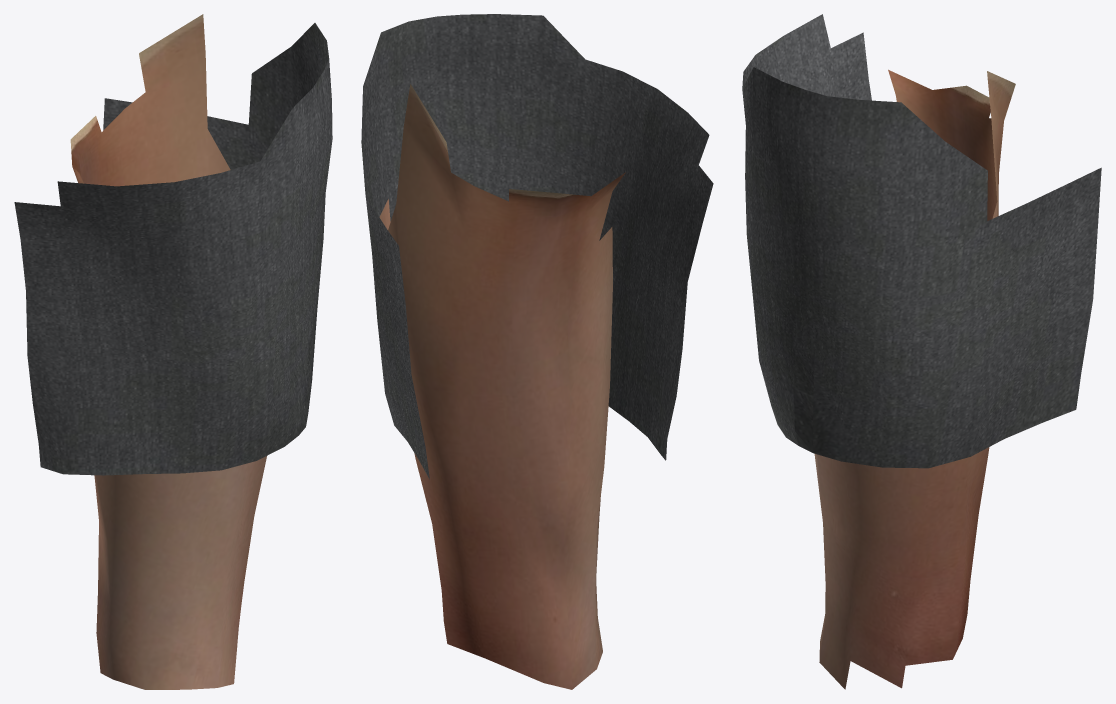
File: PiernaDer.obj
3 views of the same model, side by side, from view 1: azimuth 30°, elevation 25°; view 2: azimuth 150°, elevation 25°; view 3: azimuth 270°, elevation 25° (orthographic). The views are drawn at different scales.
Parts seen in each view (by area): view 1: PiernaDer; view 2: PiernaDer; view 3: PiernaDer.
Part boxes in pixels (left/top/right/bottom): PiernaDer: left=14, top=14, right=332, bottom=689; PiernaDer: left=361, top=14, right=713, bottom=689; PiernaDer: left=742, top=14, right=1101, bottom=689.
Size of the model in its own units: 4.8 by 8.79 by 4.45.
Materials: 2 (2 with a texture image).
